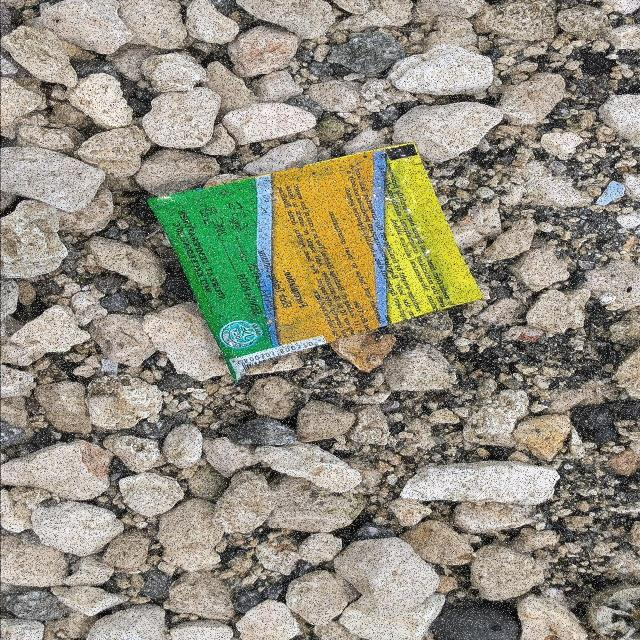plastic_waste: (145, 143, 487, 388)
